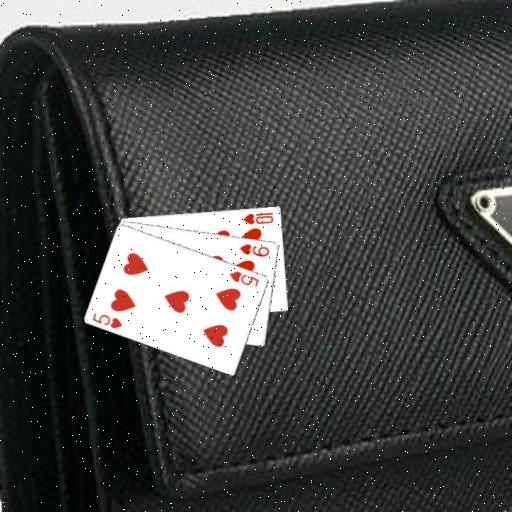10H: (241, 209, 276, 225)
5H: (227, 268, 261, 288), (90, 310, 124, 330)
9H: (237, 240, 271, 258)
